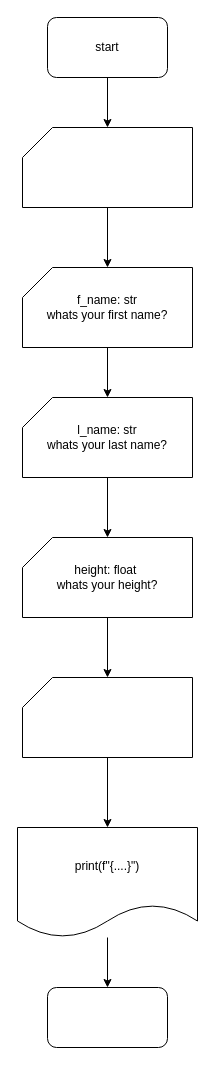
This 215x1065 diagram has some shape labels left out. Each missing label, with the centre of its shape:
end: the point at 107,1017
id: int whats your id number?: the point at 107,167
weight: int whats your wright?: the point at 107,717
